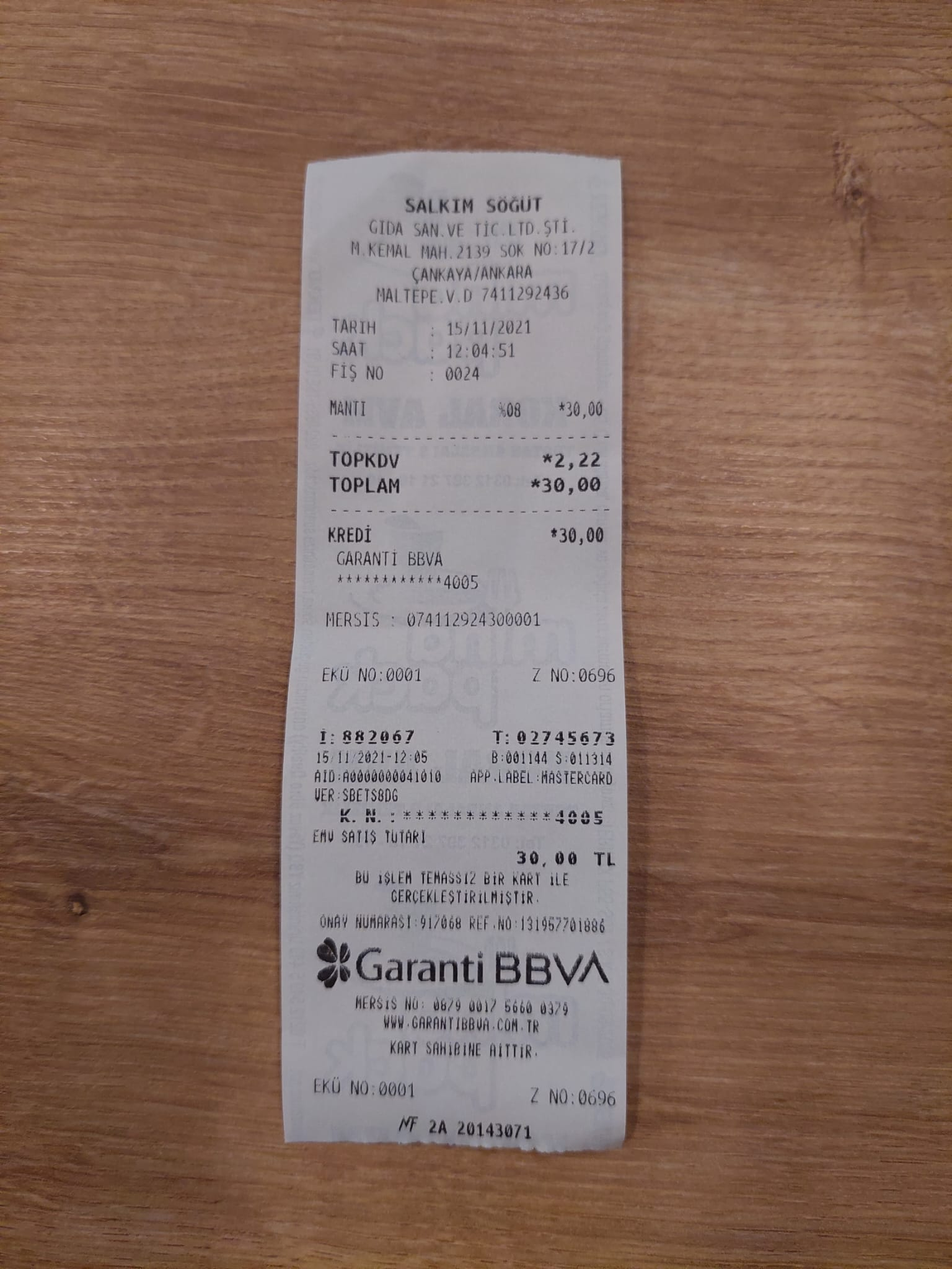date: (445, 315, 536, 342)
price: (542, 471, 607, 499)
workplace: (343, 190, 602, 288)
